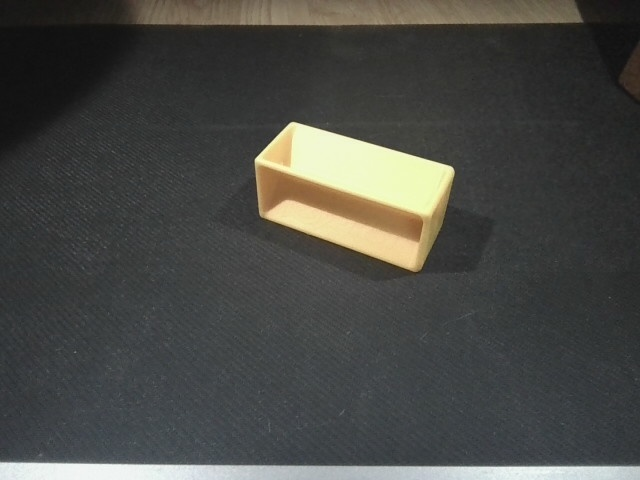YellowSample: (252, 119, 463, 280)
